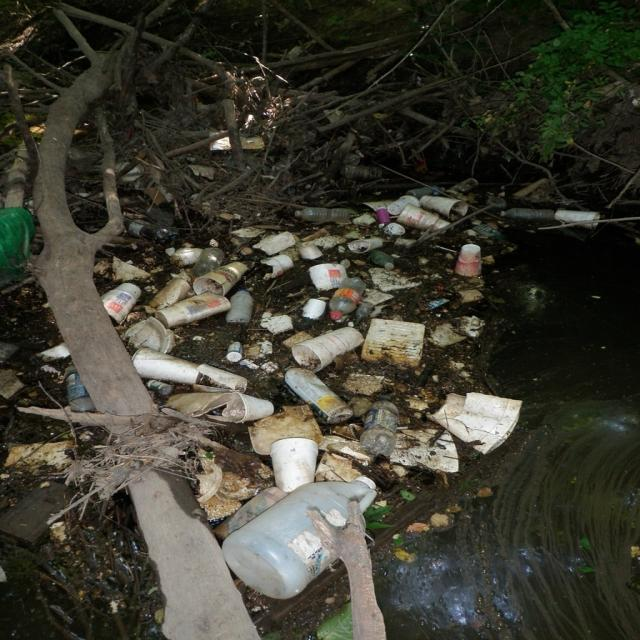Plastics: (114, 169, 526, 590)
